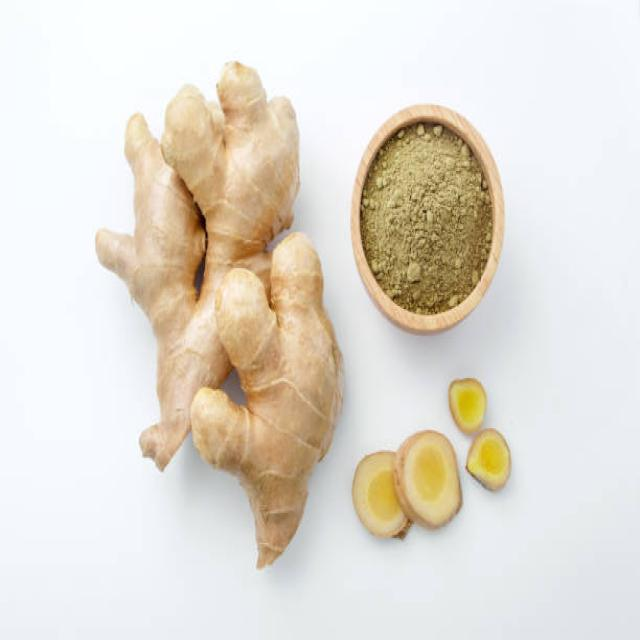ginger-root: (90, 42, 348, 586)
